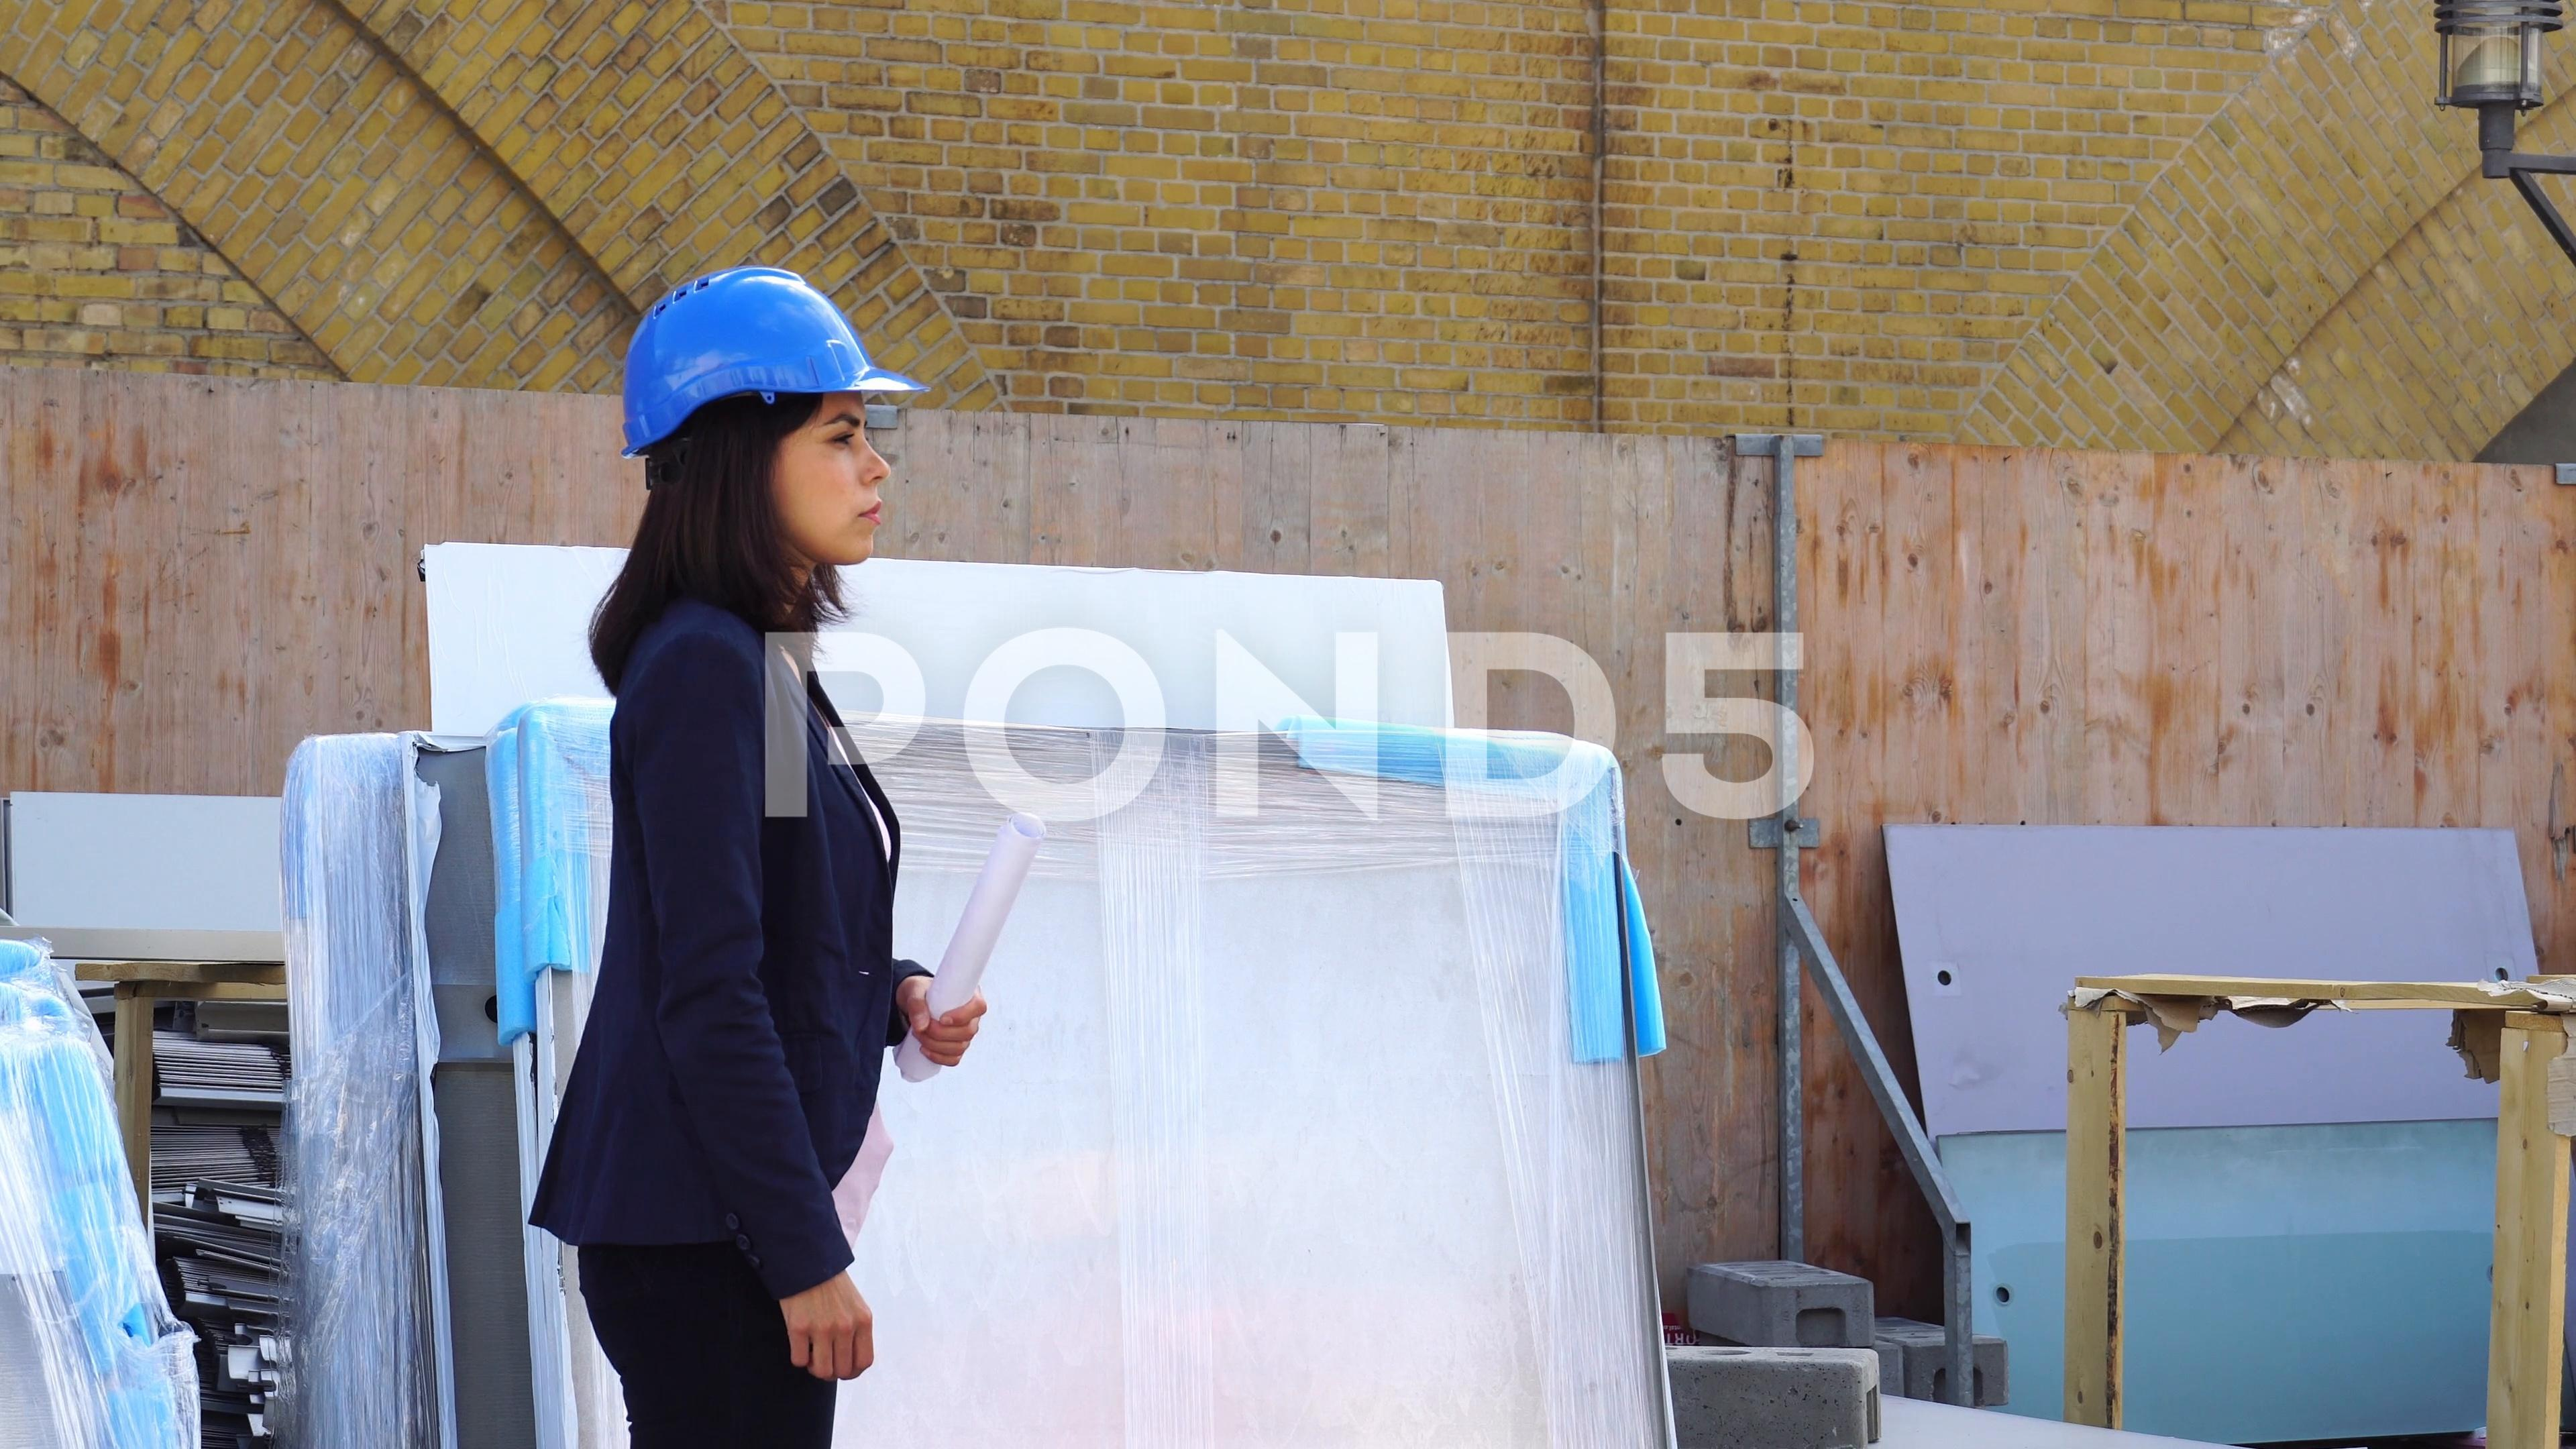hat: (564, 185, 983, 712)
no vest: (521, 564, 1000, 1339)
